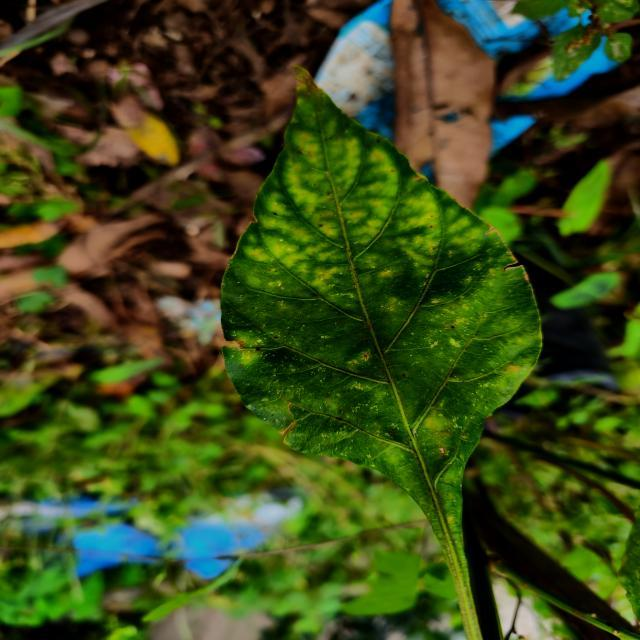Virus Kuning: (220, 64, 547, 543)
